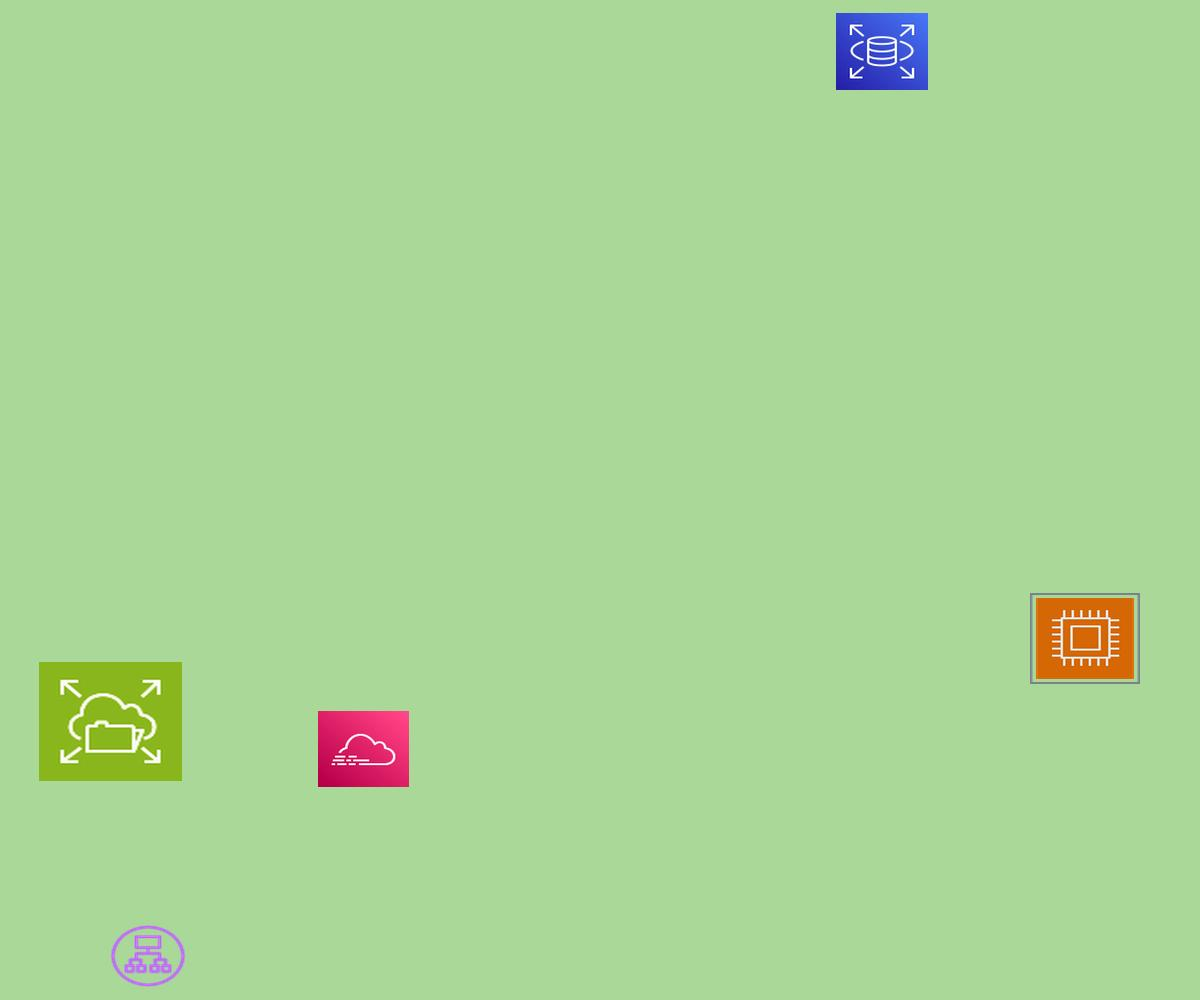AWS-Category_Compute: (1030, 593, 1140, 684)
AWS-CloudTrail: (318, 711, 409, 787)
AWS-EFS: (39, 662, 182, 781)
AWS-RDS: (836, 13, 928, 90)
AWS-Res_Elastic-Load-Balancing_Application-Load-Balancer: (108, 923, 188, 989)
